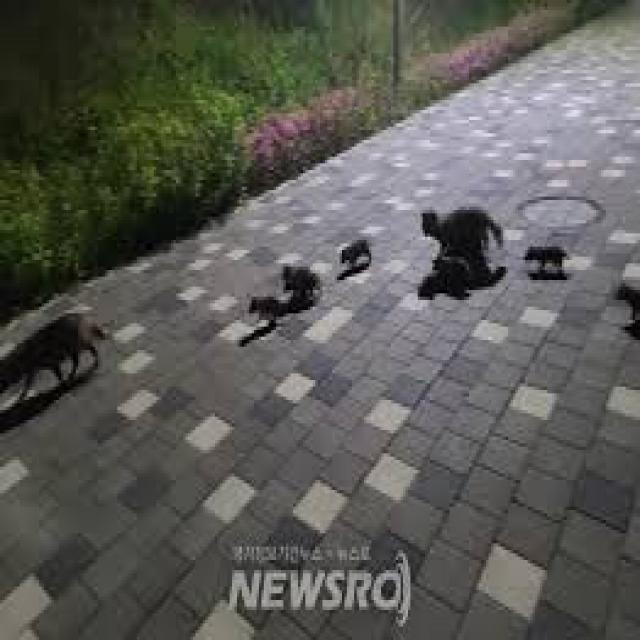racoon: (5, 317, 106, 398), (418, 201, 501, 289), (522, 236, 572, 282), (276, 261, 322, 305), (248, 286, 283, 330), (342, 232, 374, 271)
